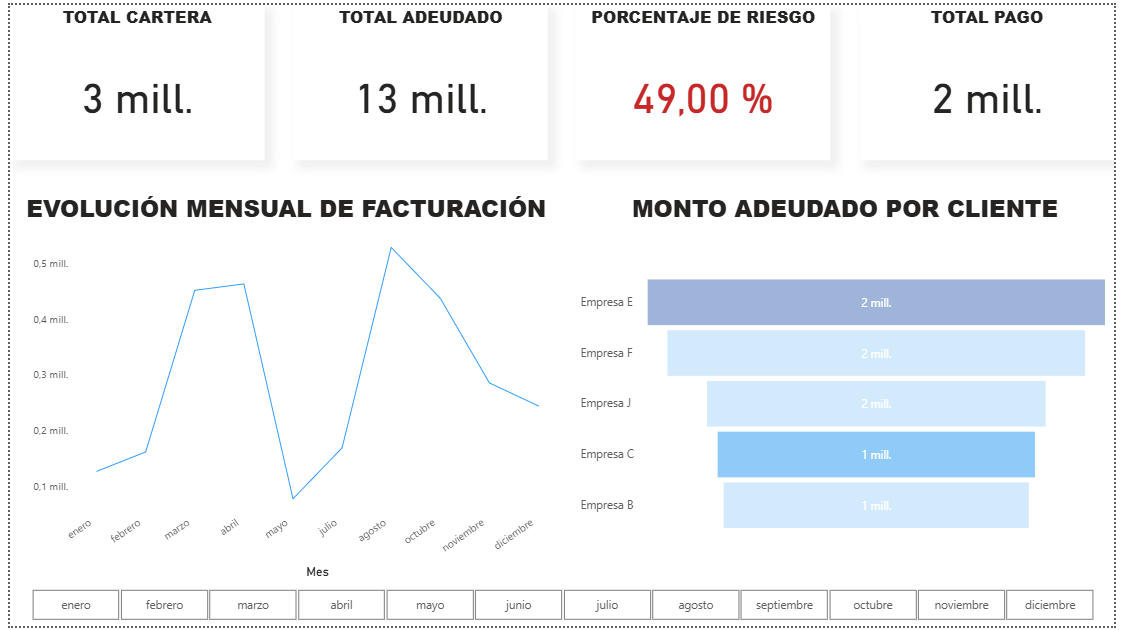

What the dashboard file says about the page in this screenshot:
{"tool":"powerbi","page":{"name":"Dashboard","canvas":[1280,720],"ordinal":0},"visuals":[{"type":"card","title":"TOTAL CARTERA","fields":{"Values":["cartera_contable.Total Cartera"]},"box":[0,0,295,180],"z":0},{"type":"lineChart","title":"EVOLUCIÓN MENSUAL DE FACTURACIÓN ","fields":{"Y":["cartera_contable.Facturacion Evolucion1"],"Category":["cartera_contable.Fecha.Variación.Jerarquía de fechas.Mes"]},"box":[0,216.1,640.8,454.8],"z":1000},{"type":"card","title":"TOTAL ADEUDADO","fields":{"Values":["cartera_contable.Monto Adeudado Total"]},"box":[328.6,0,294.7,179.8],"z":2000},{"type":"funnel","title":"MONTO ADEUDADO POR CLIENTE","fields":{"Y":["cartera_contable.Monto Adeudado"],"Category":["cartera_contable.Cliente"]},"box":[657.1,216.1,623.2,454.8],"z":3000},{"type":"card","title":"PORCENTAJE DE RIESGO","fields":{"Values":["cartera_contable.Porcentaje_Morosidad"]},"box":[657,0,294.7,179.8],"z":4000},{"type":"card","title":"TOTAL PAGO","fields":{"Values":["cartera_contable.Total Pago"]},"box":[985.3,0,294.7,179.8],"z":5000},{"type":"slicer","fields":{"Values":["cartera_contable.Fecha.Variación.Jerarquía de fechas.Mes"]},"box":[0,670.9,1280.3,49],"z":6000}]}

Visuals, with their boxes in screenshot pixels (x1, y1, x2, y2), scaled from the page's 1280x720 canvas onto the 1137x630 screenshot:
"TOTAL CARTERA" card: (x1=0, y1=0, x2=262, y2=158)
"EVOLUCIÓN MENSUAL DE FACTURACIÓN " lineChart: (x1=0, y1=189, x2=569, y2=587)
"TOTAL ADEUDADO" card: (x1=292, y1=0, x2=554, y2=157)
"MONTO ADEUDADO POR CLIENTE" funnel: (x1=584, y1=189, x2=1136, y2=587)
"PORCENTAJE DE RIESGO" card: (x1=584, y1=0, x2=845, y2=157)
"TOTAL PAGO" card: (x1=875, y1=0, x2=1136, y2=157)
slicer - cartera_contable.Fecha.Variación.Jerarquía de fechas.Mes: (x1=0, y1=587, x2=1136, y2=629)
